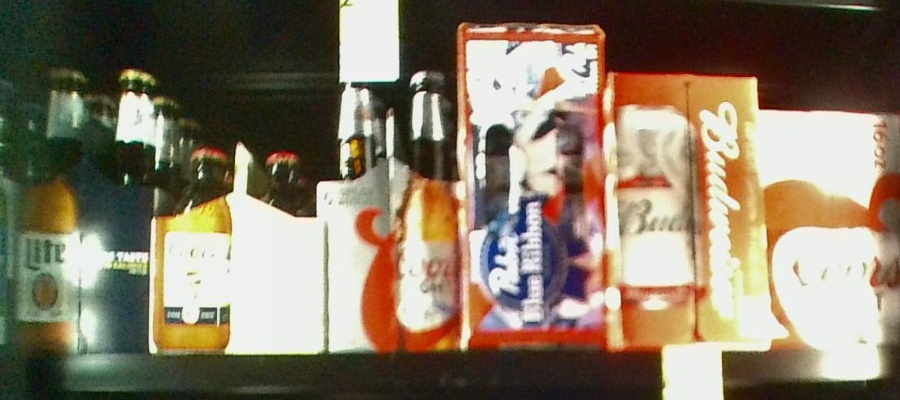bottle: (453, 21, 609, 348), (611, 70, 772, 349), (24, 54, 150, 352), (324, 71, 458, 351), (148, 147, 322, 357), (770, 107, 900, 352)
